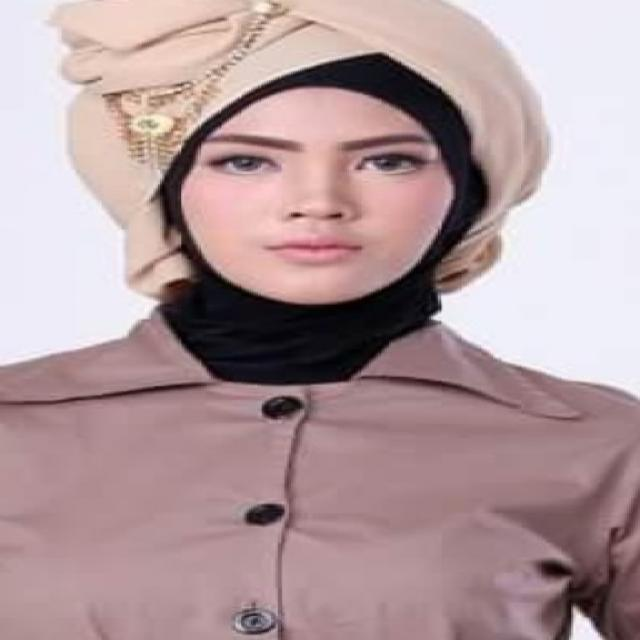head: (120, 38, 509, 318)
